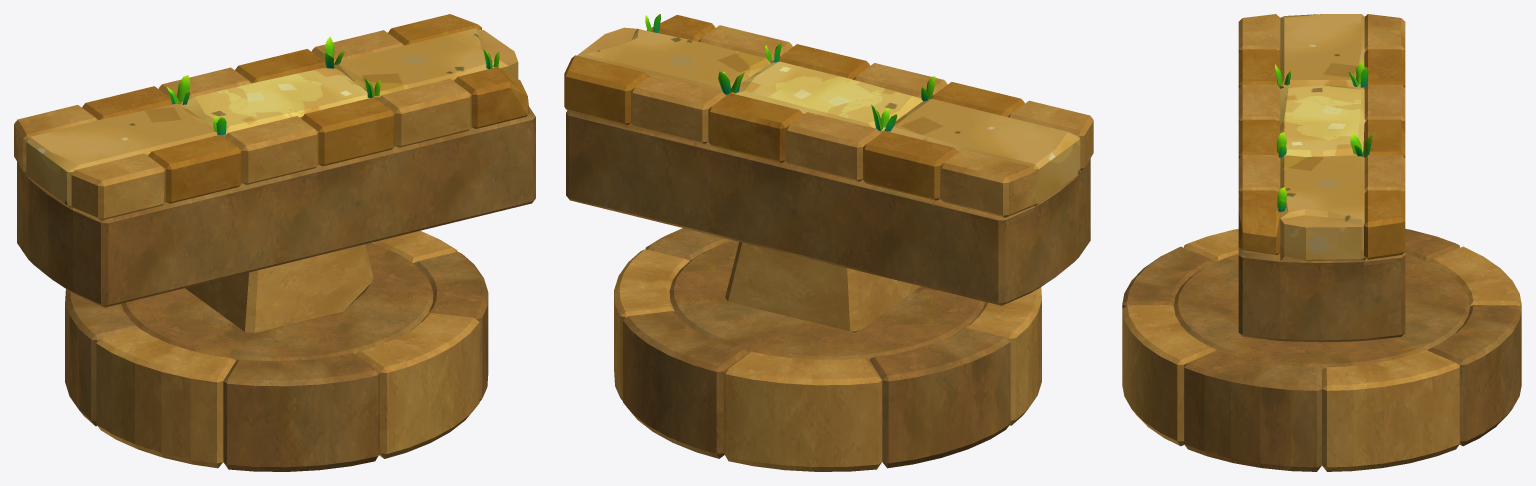
File: Clock A.obj
3 renders of one model, left to right at view 1: azimuth 30°, elevation 25°; view 2: azimuth 150°, elevation 25°; view 3: azimuth 270°, elevation 25°, orthographic. The views are drawn at different scales.
Parts seen in each view (by area): view 1: Top2__Stone01_AI, pCube911__Stone02_AI, pCube910__Stone05_AI, pCube916__Stone04_AI, pCube917__Stone03_AI, BRGrassC_AI55__Grass00_AI, pCube916__Stone06_AI; view 2: Top2__Stone01_AI, pCube911__Stone02_AI, pCube910__Stone05_AI, pCube916__Stone04_AI, pCube917__Stone03_AI, BRGrassC_AI55__Grass00_AI, pCube916__Stone06_AI; view 3: Top2__Stone01_AI, pCube911__Stone02_AI, pCube916__Stone04_AI, pCube910__Stone05_AI, pCube917__Stone03_AI, BRGrassC_AI55__Grass00_AI, pCube916__Stone06_AI.
Part boxes in pixels (left/top/right/bottom): Top2__Stone01_AI: left=17, top=107, right=535, bottom=471; pCube911__Stone02_AI: left=14, top=30, right=479, bottom=468; pCube910__Stone05_AI: left=82, top=14, right=529, bottom=203; pCube916__Stone04_AI: left=26, top=28, right=518, bottom=208; pCube917__Stone03_AI: left=181, top=67, right=369, bottom=137; BRGrassC_AI55__Grass00_AI: left=166, top=36, right=499, bottom=135; pCube916__Stone06_AI: left=479, top=30, right=517, bottom=65; Top2__Stone01_AI: left=566, top=111, right=1090, bottom=468; pCube911__Stone02_AI: left=614, top=25, right=1093, bottom=471; pCube910__Stone05_AI: left=564, top=15, right=1024, bottom=200; pCube916__Stone04_AI: left=581, top=29, right=1080, bottom=206; pCube917__Stone03_AI: left=731, top=61, right=922, bottom=133; BRGrassC_AI55__Grass00_AI: left=645, top=14, right=935, bottom=131; pCube916__Stone06_AI: left=577, top=27, right=637, bottom=56; Top2__Stone01_AI: left=1122, top=229, right=1521, bottom=471; pCube911__Stone02_AI: left=1122, top=14, right=1521, bottom=471; pCube916__Stone04_AI: left=1280, top=14, right=1365, bottom=261; pCube910__Stone05_AI: left=1238, top=49, right=1405, bottom=259; pCube917__Stone03_AI: left=1280, top=85, right=1365, bottom=158; BRGrassC_AI55__Grass00_AI: left=1275, top=61, right=1372, bottom=211; pCube916__Stone06_AI: left=1280, top=215, right=1361, bottom=227.
Bounding box in the file's own units: 6.01 × 3.86 × 4.79.
7 materials, 7 textured.
